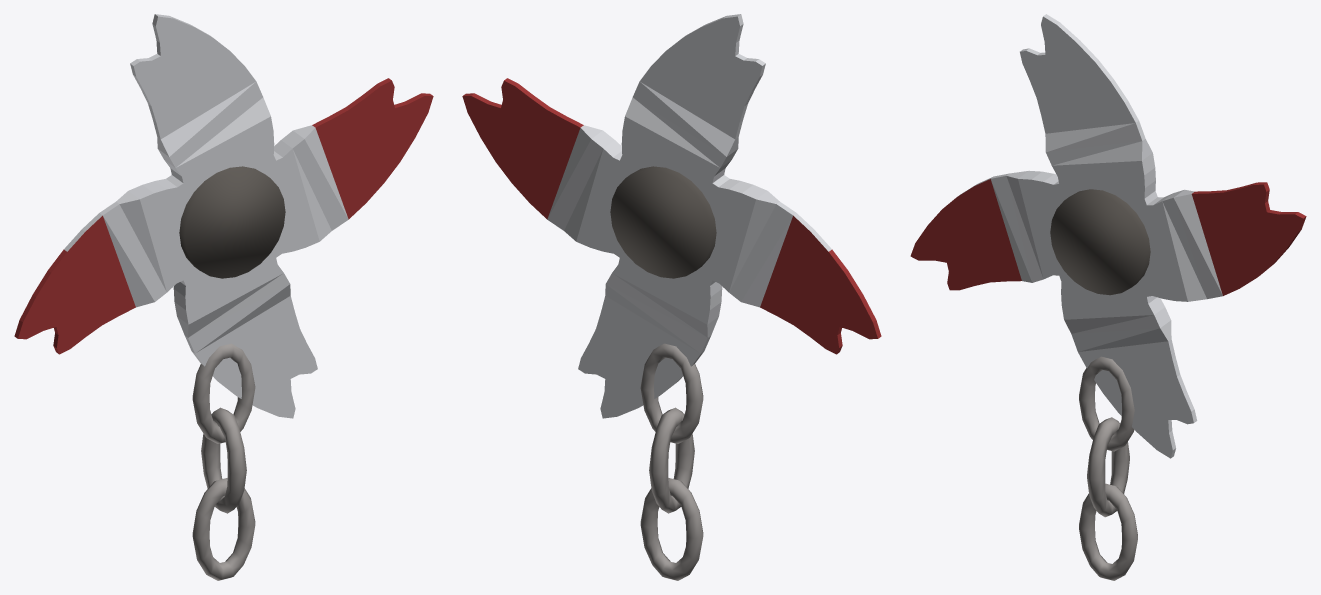
Rendered from shuriken_hook.glb.
The picture shows the model from 3 angles, left to right: view 1: azimuth 30°, elevation 25°; view 2: azimuth 150°, elevation 25°; view 3: azimuth 330°, elevation 25°; orthographic projection. The views are drawn at different scales.
Visible parts, largest first — view 1: shuriken_hook; view 2: shuriken_hook; view 3: shuriken_hook.
Boxes of the visible parts, x1,y1,x2,y2 form: shuriken_hook: (14, 14, 433, 580); shuriken_hook: (462, 14, 881, 580); shuriken_hook: (910, 14, 1306, 580).
Bounding box in the file's own units: 0.4451 × 0.5941 × 0.067.
